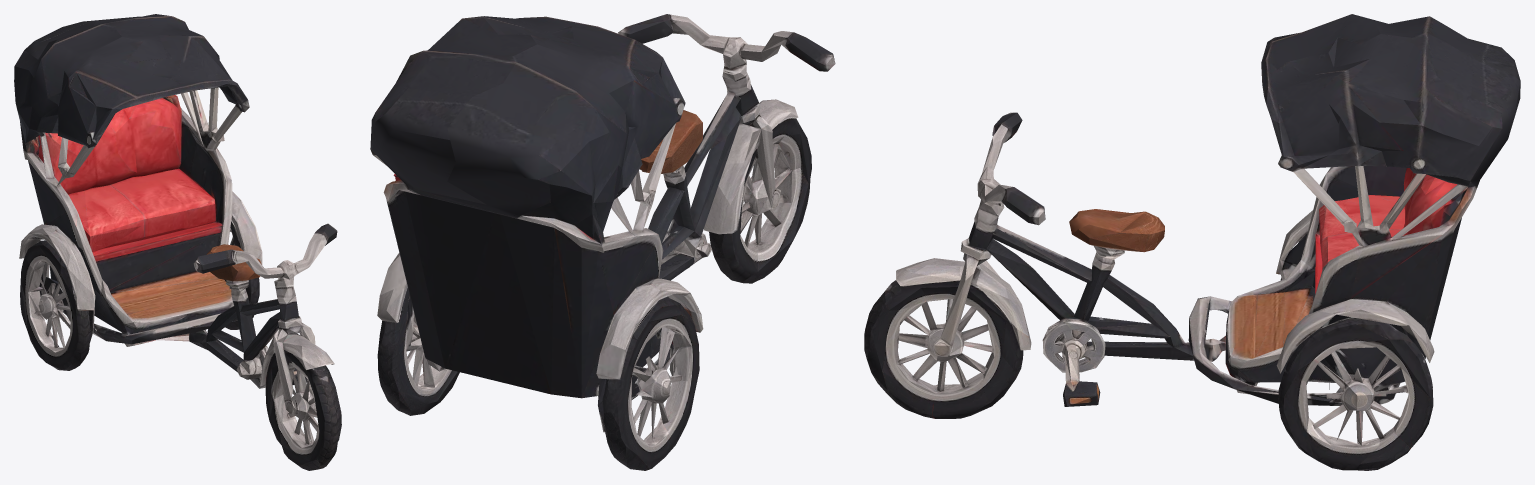
The model's file is pedicab.glb.
The picture shows the model from 3 angles, left to right: view 1: azimuth 30°, elevation 25°; view 2: azimuth 150°, elevation 25°; view 3: azimuth 270°, elevation 25°; orthographic projection. The views are drawn at different scales.
Size of the model in its own units: 1.08 by 1.6 by 2.51.
1 material, 1 textured.
